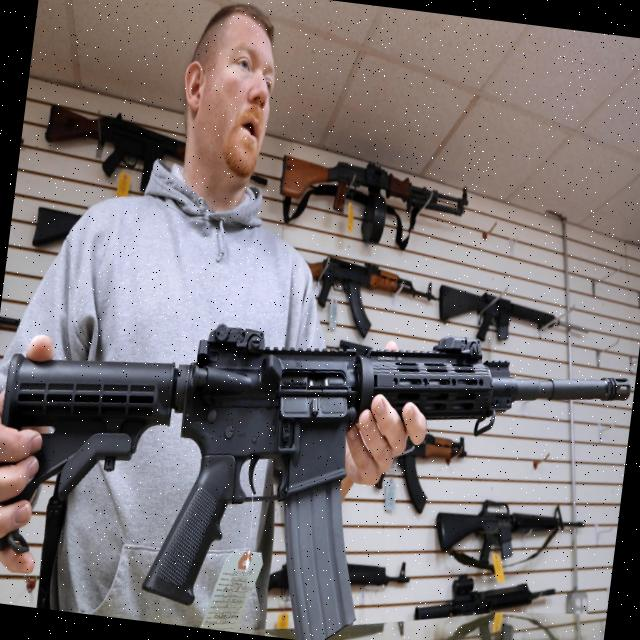Automaticrifle: (0, 283, 632, 640), (35, 94, 270, 210), (272, 148, 471, 255), (281, 244, 440, 342), (318, 418, 468, 508), (434, 278, 590, 361), (263, 546, 411, 632), (432, 491, 584, 574), (409, 571, 555, 638), (24, 194, 98, 253)
